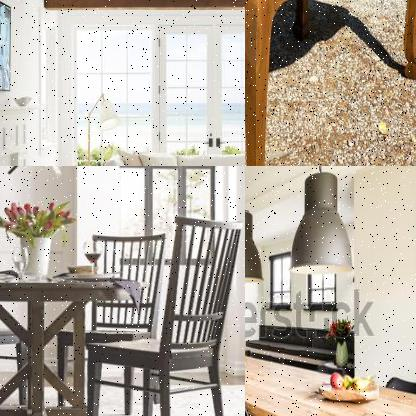table: (245, 0, 415, 165), (0, 262, 150, 415), (245, 335, 415, 415)
